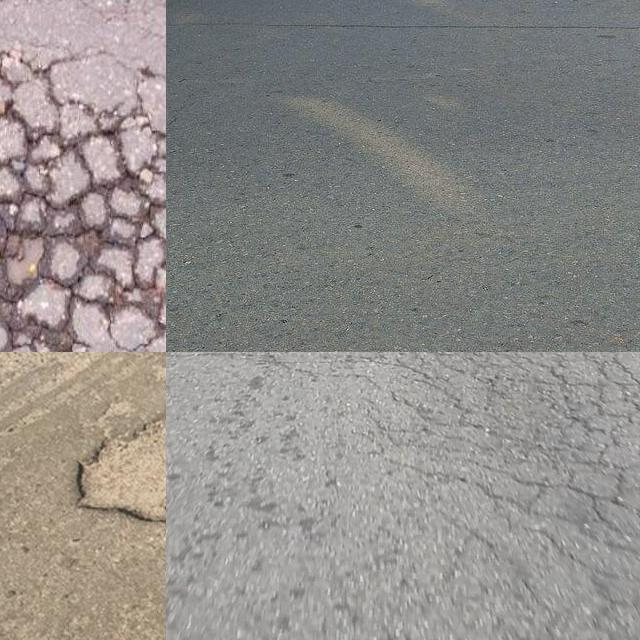Lubang: (81, 412, 166, 529)
Melintang: (166, 5, 640, 41)
Retak Buaya: (410, 352, 640, 640), (0, 46, 166, 352)
